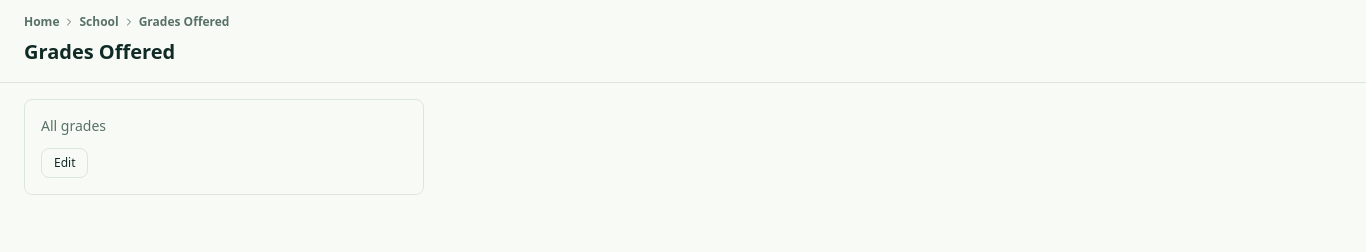
GradesOfferedPage › lets a super admin disable grades and saves the enabled subset
Expected: the text "All grades" is shown, [41,116,106,135]
What coordinates should you click on to do the following:
click the button "Edit"
I would click on:
 (65, 163)
Its box is [41,148,88,178].
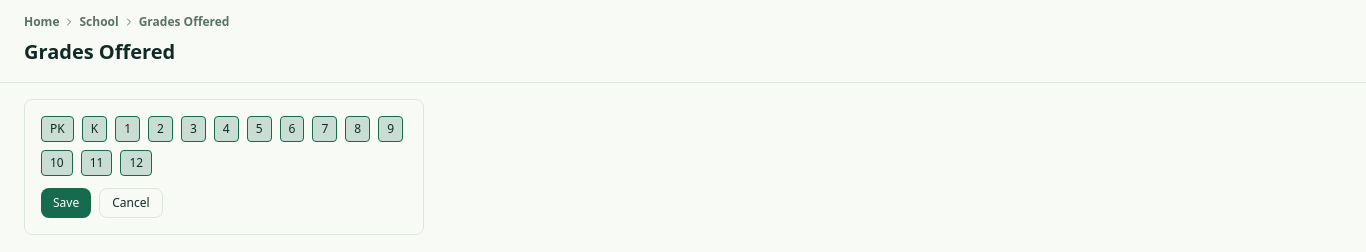
What coordinates should you click on to do the following:
click the button "9"
I would click on:
 (391, 129)
Its box is [378,116,403,142].
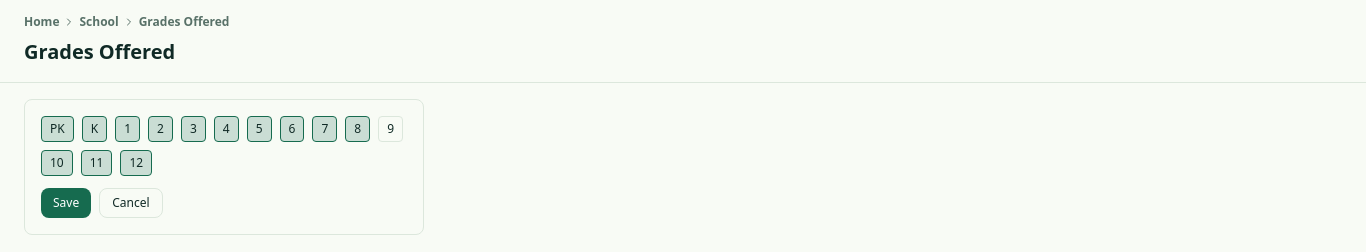
What coordinates should you click on to do the following:
click the button "10"
I would click on:
 (57, 163)
Its box is [41,150,73,176].
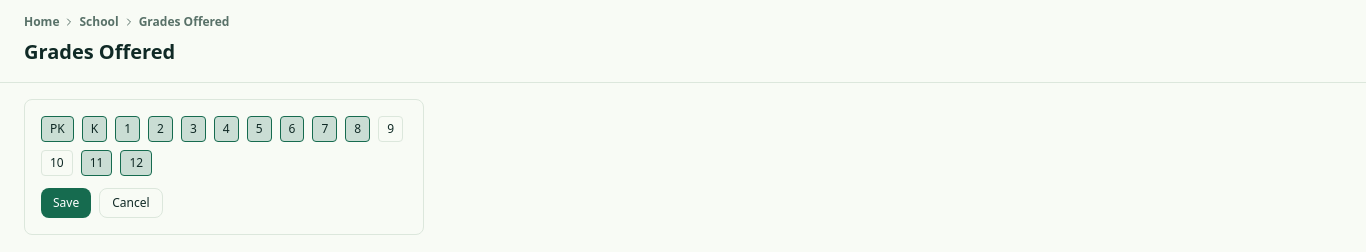
What coordinates should you click on to do the following:
click the button "11"
I would click on:
 (97, 163)
Its box is [81,150,112,176].
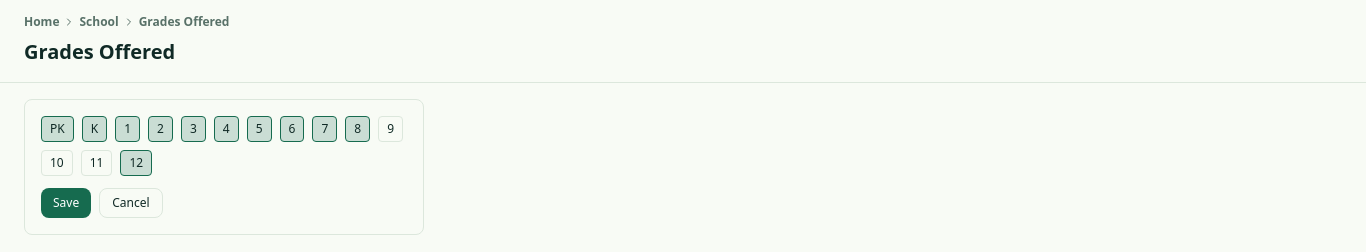
What coordinates should you click on to do the following:
click the button "12"
I would click on:
 (136, 163)
Its box is [120,150,152,176].
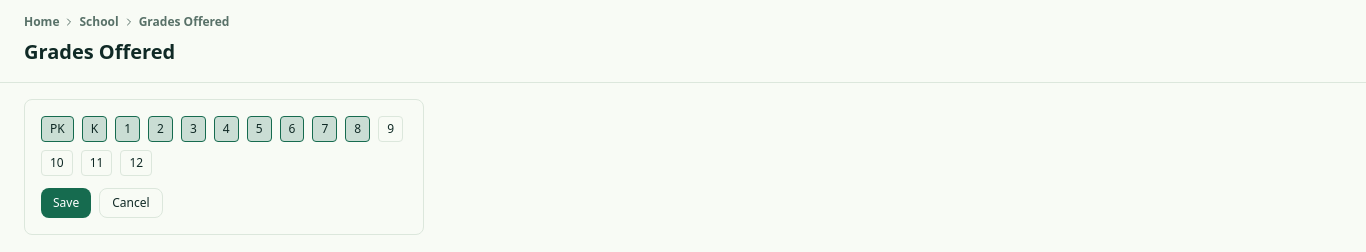
What coordinates should you click on to do the following:
click the button "Save"
I would click on:
 (66, 203)
Its box is [41,188,91,218].
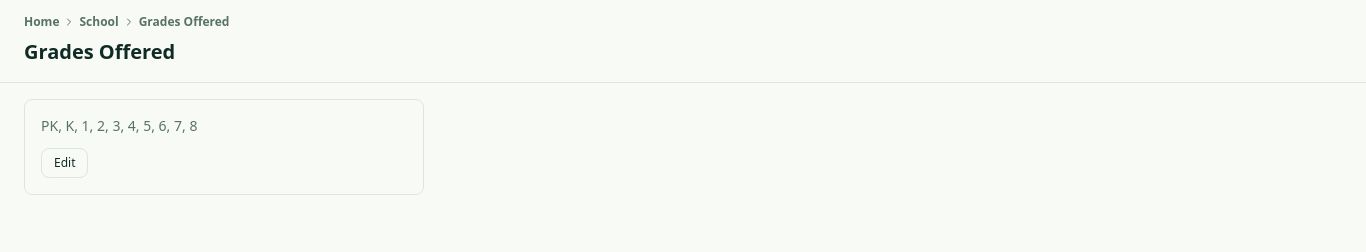
Now the text "PK, K, 1, 2, 3, 4, 5, 6, 7, 8" is shown, box [41,116,197,135]
